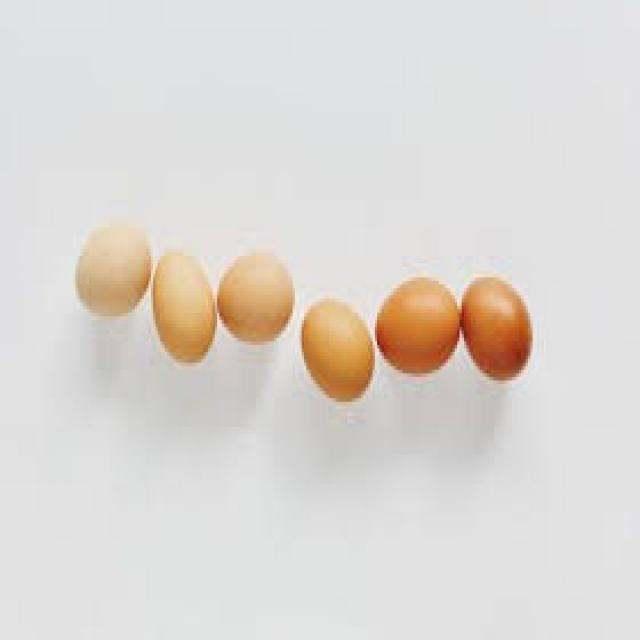egg: (377, 277, 462, 373), (303, 297, 376, 401), (462, 277, 535, 380), (75, 218, 151, 316), (219, 250, 295, 345), (153, 252, 217, 363)
